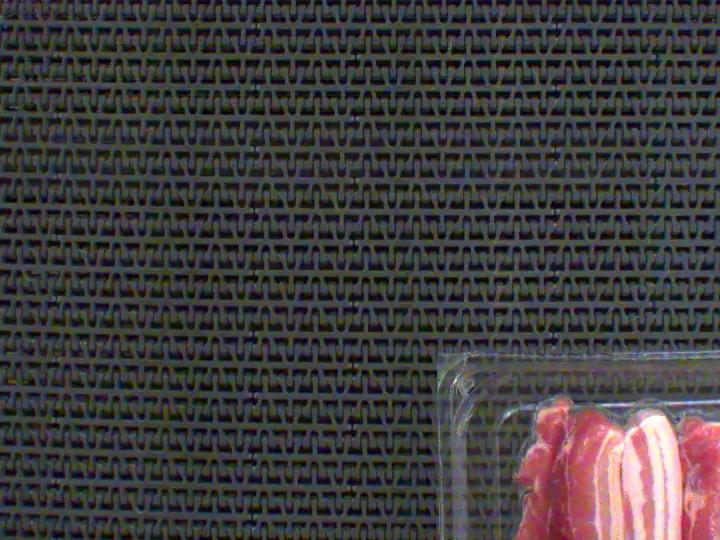unsealed: (518, 385, 720, 483)
